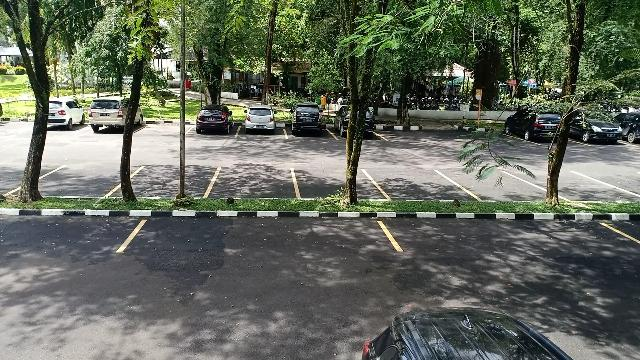empty: (127, 215, 397, 259), (389, 214, 617, 260), (36, 165, 128, 197), (531, 169, 617, 203), (131, 164, 219, 197), (212, 164, 296, 198), (452, 166, 530, 202), (378, 165, 452, 201), (296, 166, 374, 196), (136, 113, 188, 139)
occupied: (502, 112, 558, 146), (285, 106, 331, 138), (187, 108, 237, 137), (238, 108, 286, 138)
